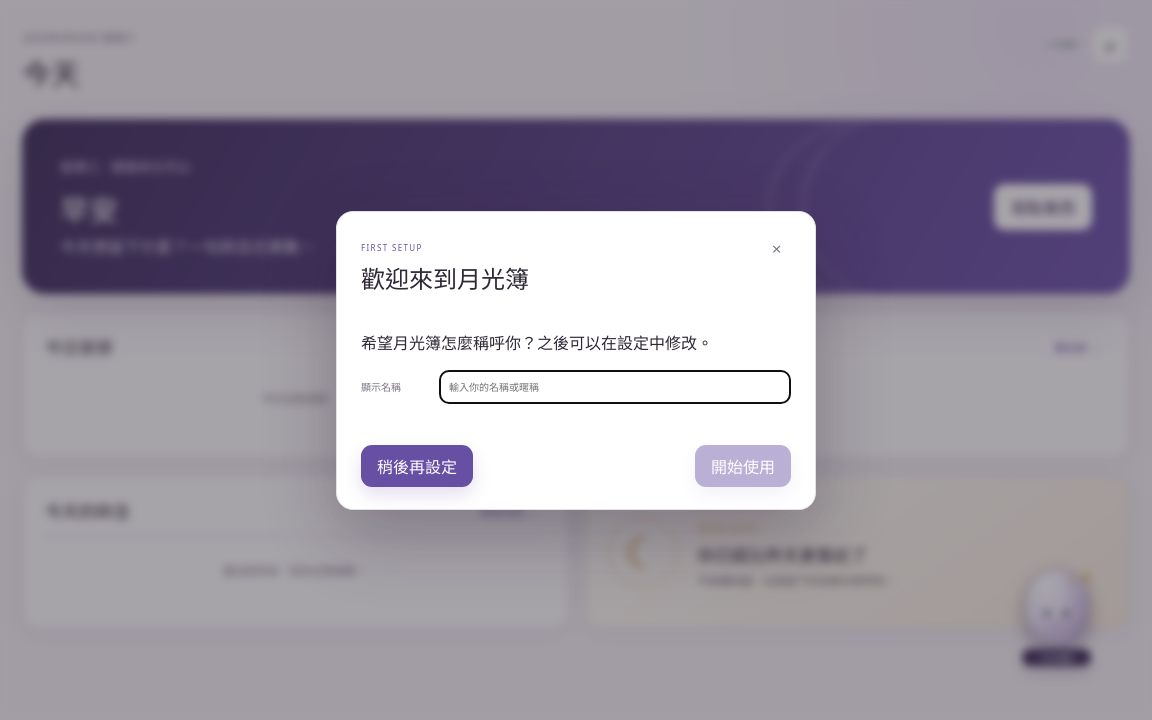
it: 月光簿 v0.9.1 › 首次開啟可設定顯示名稱，且可稍後修改
Expected: the dialog "歡迎來到月光簿" is shown, [336,210,816,510]
Step 1. Type "新使用者" into the field named "首次設定名稱" → (615, 386), box [439,370,791,404]
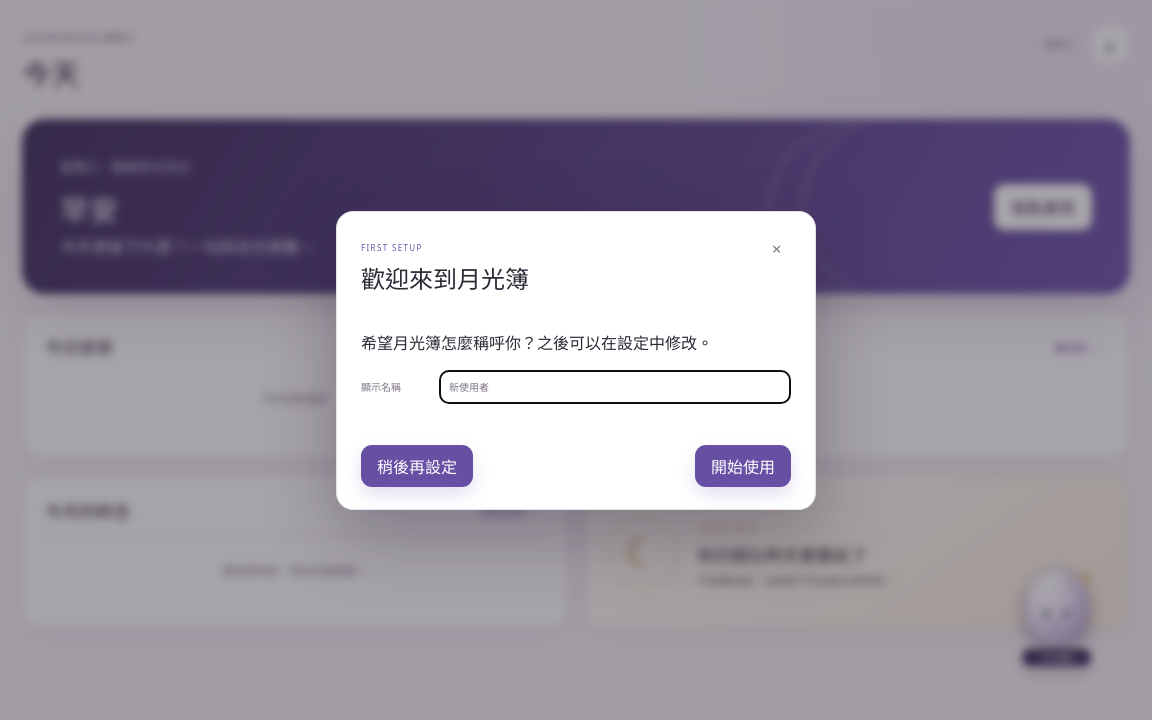
Step 2. Click the button "開始使用" → (743, 466), box [695,444,791,486]
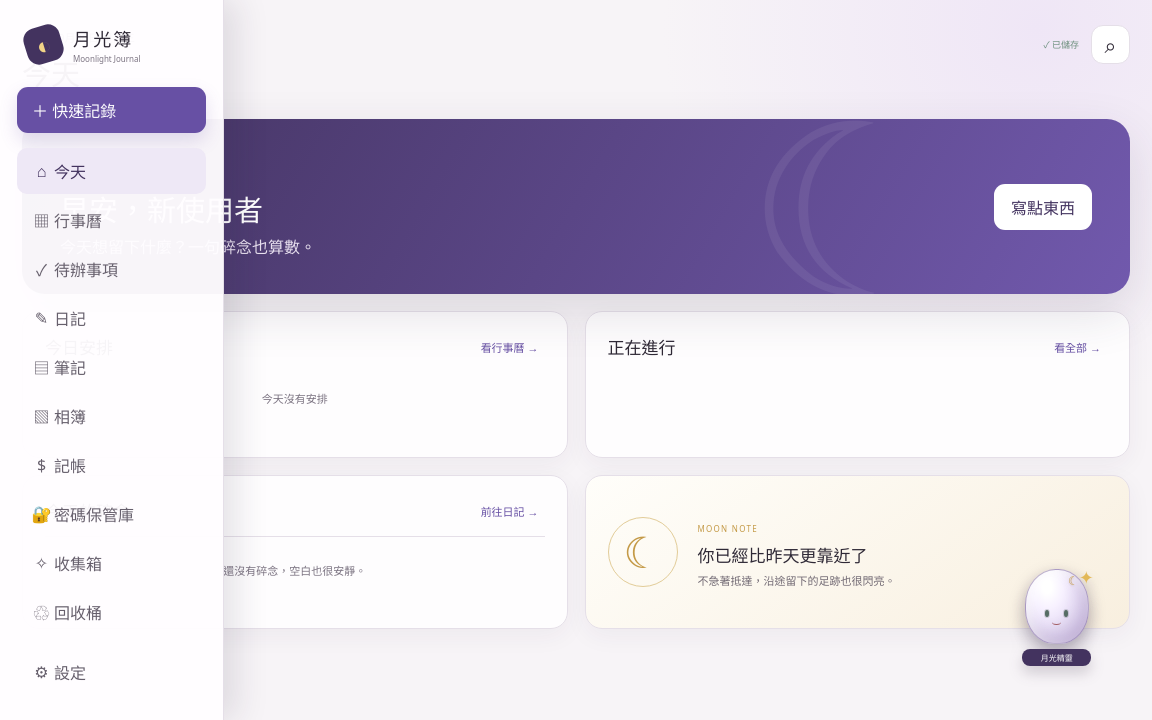
Result: the heading "歡迎來到月光簿" is gone
